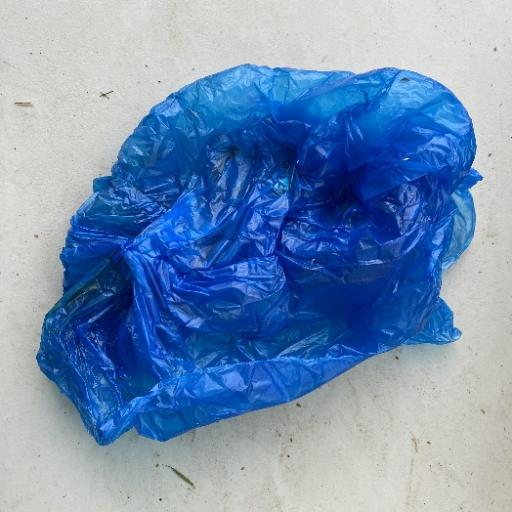Plastic: (35, 62, 483, 446)
